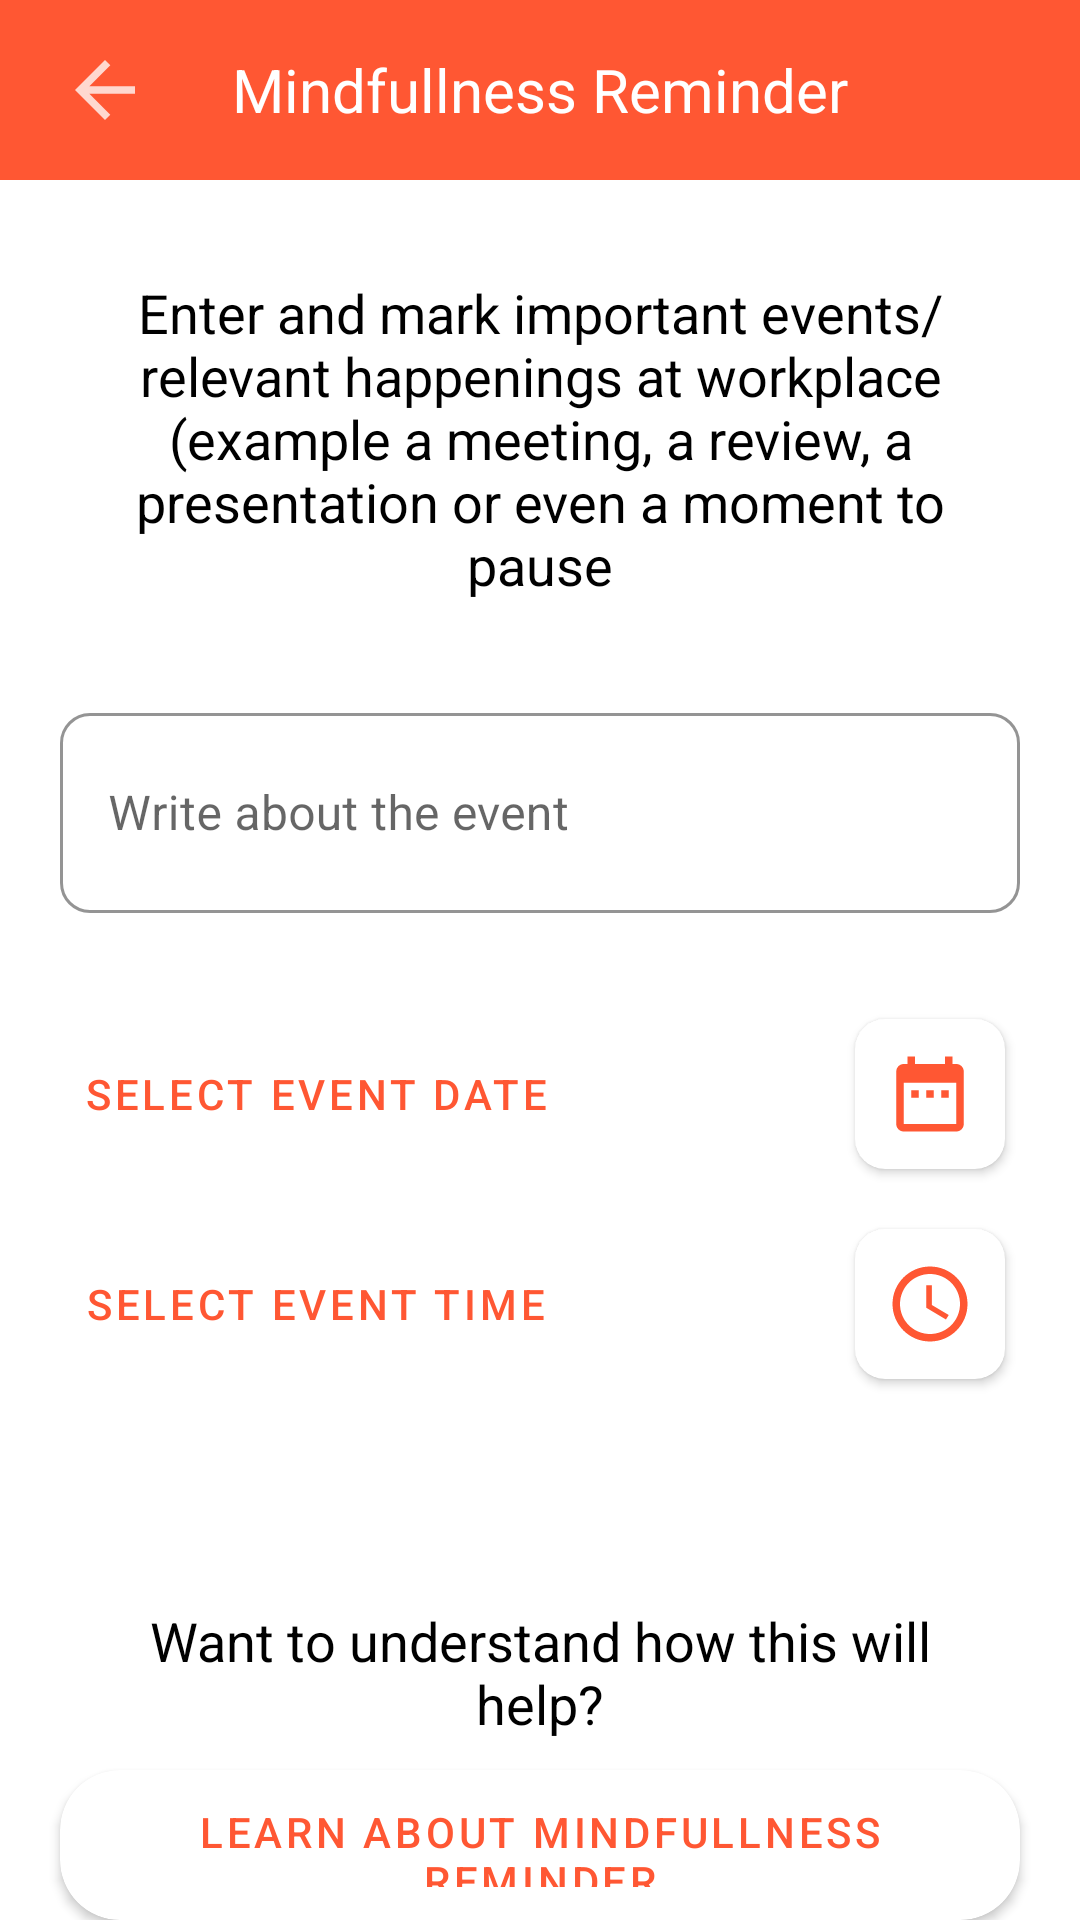

Icons on this 1080*1920 Android screen, each with the point to tap as (x,y):
access time: (930,1304)
arrow: (105,90)
date range: (930,1094)
